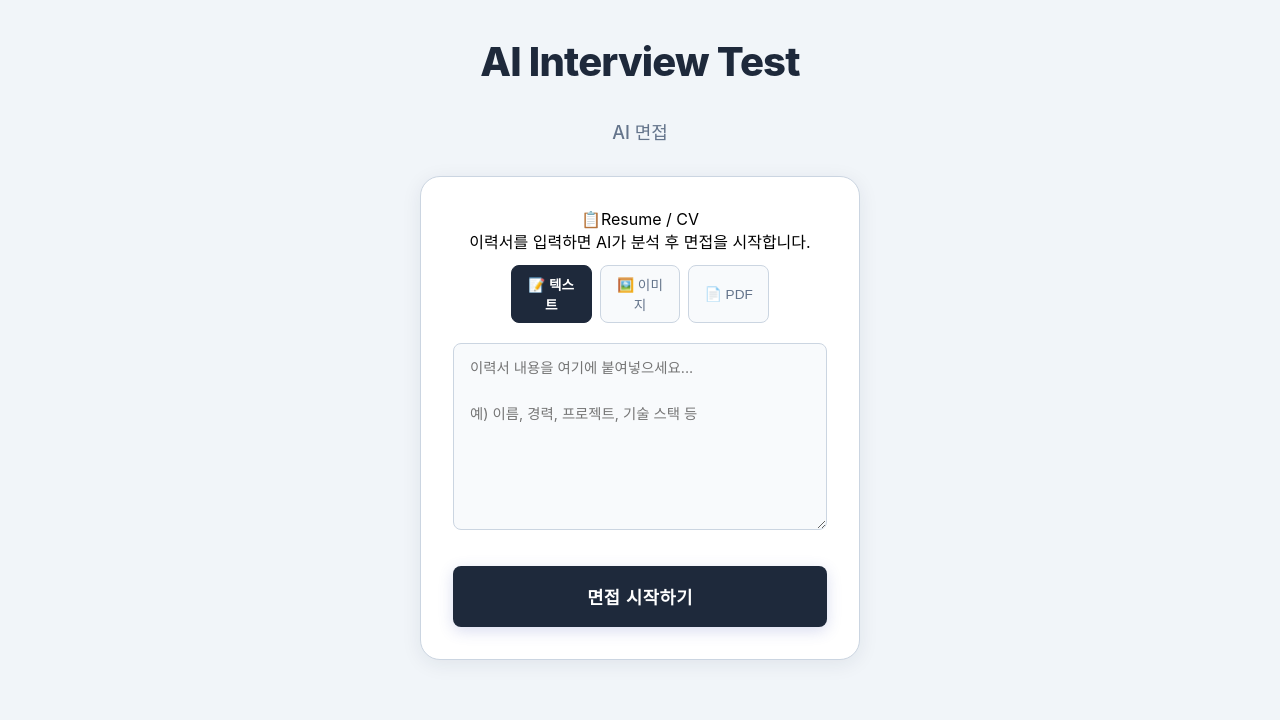
Scenario: AIInterviewComponent › shows main interview panel after starting interview
(page scrolled)
Type "이름: 홍길동, 경력: 3년" into the text box. click: (640, 437)
box: [453,343,827,530]
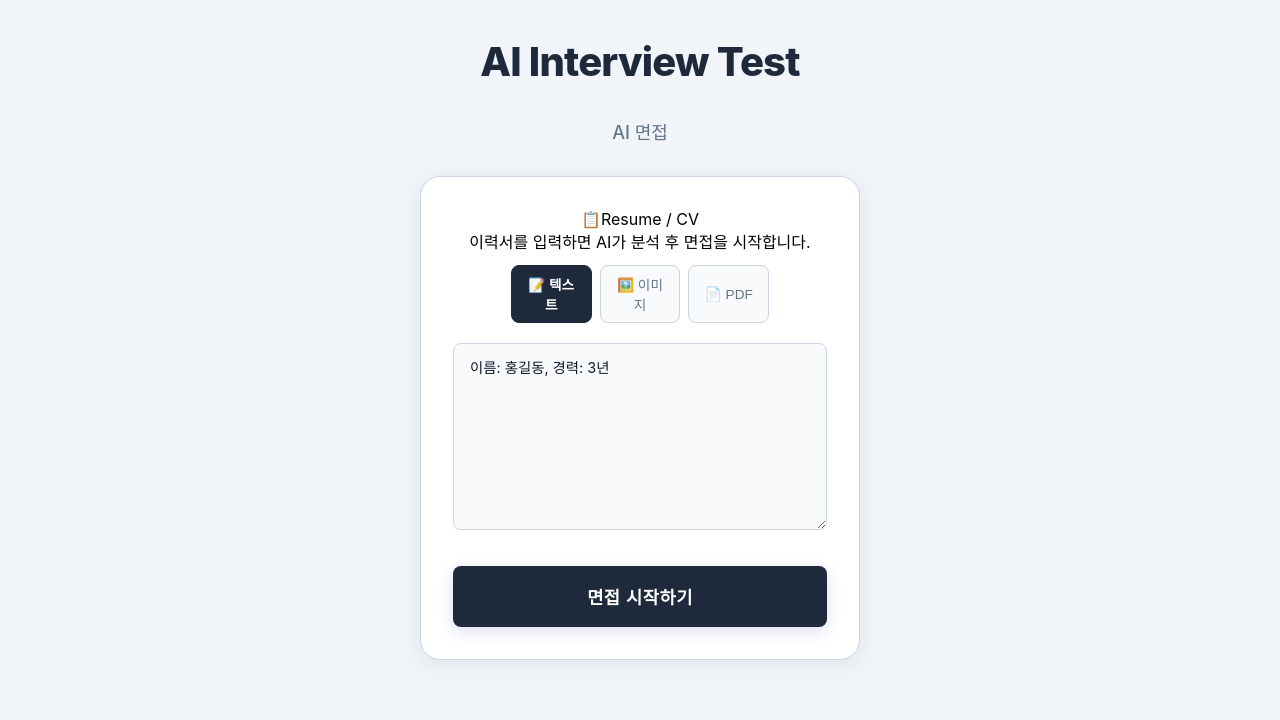
Click the button "면접 시작하기". click: (640, 597)
box: [453,566,827,627]
(page scrolled)
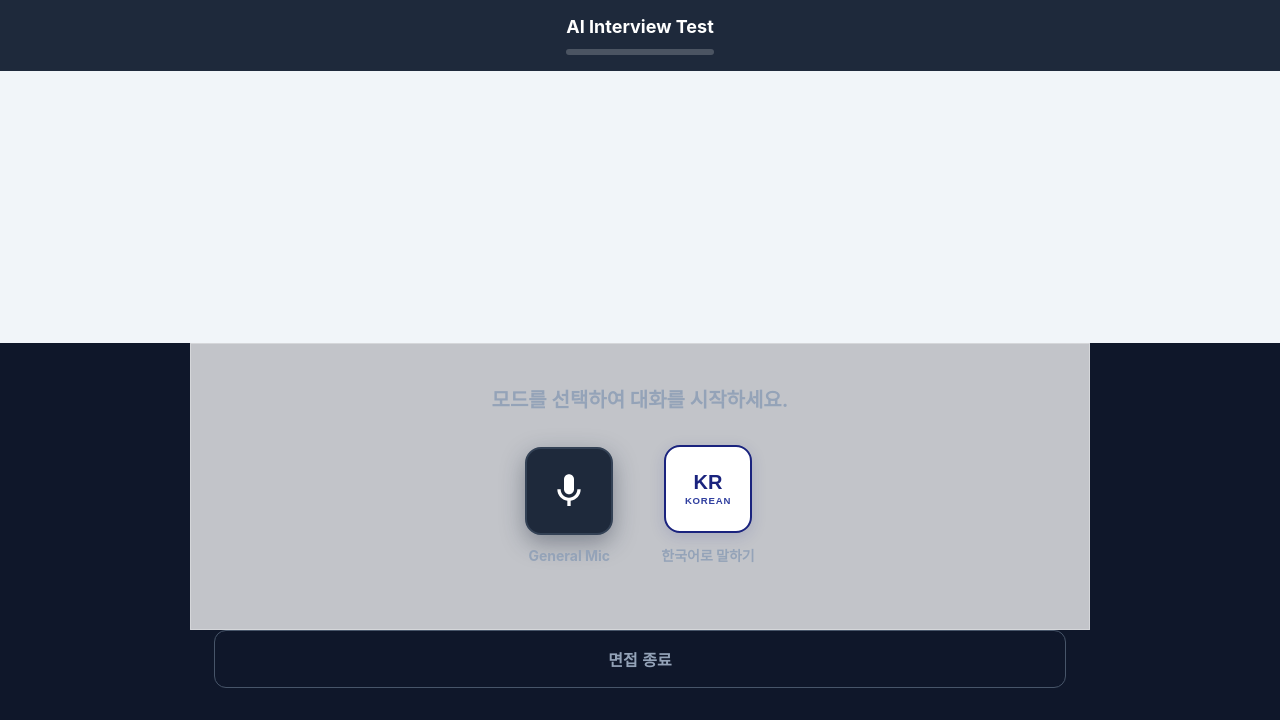
expect the button "면접 종료" is shown: met, box [214,630,1066,688]
